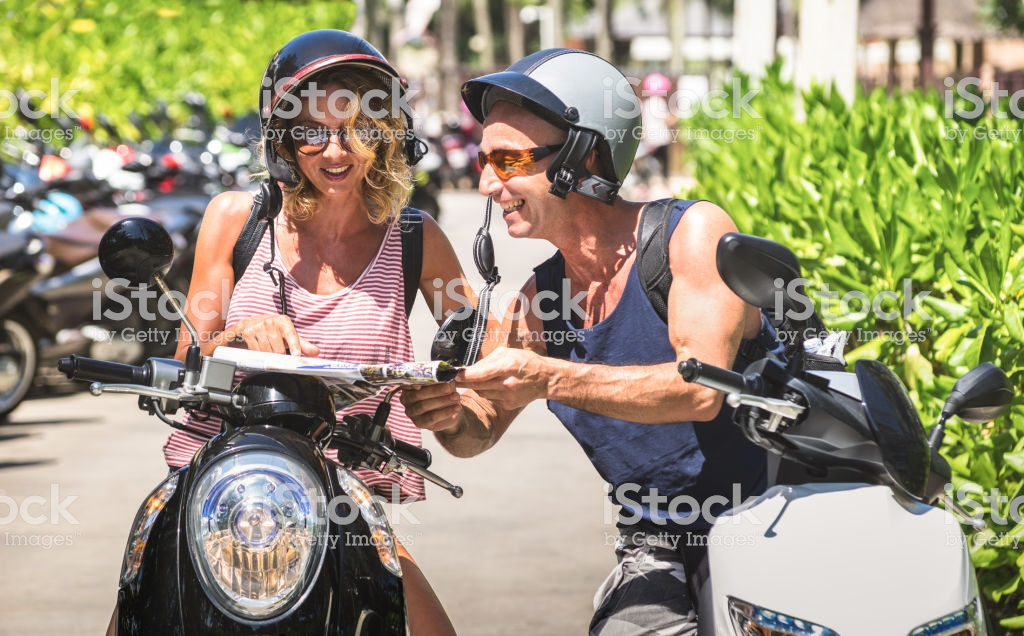helmet: (482, 48, 663, 179), (252, 16, 422, 142)
